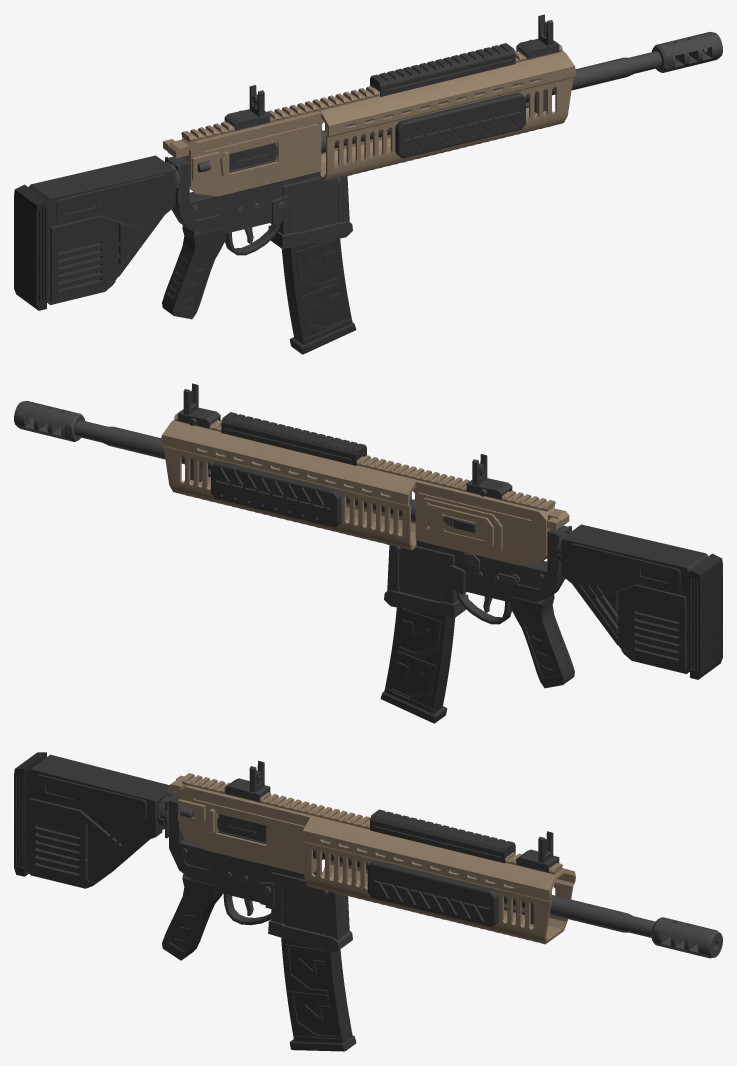
The model's file is MK35_ISR_BO7.gltf.
3 renders of one model, top to bottom at view 1: azimuth 30°, elevation 25°; view 2: azimuth 150°, elevation 25°; view 3: azimuth 330°, elevation 25°, orthographic.
Parts seen in each view (by area): view 1: stock, handguard, receiver_lower, receiver_upper, magazine, handguard_side_panels, butt_pad, grip, handguard_top_panel, barrel, rail_top, muzzle_brake (+5 smaller); view 2: stock, handguard, receiver_lower, receiver_upper, magazine, handguard_side_panels, butt_pad, grip, handguard_top_panel, barrel, rail_top, muzzle_brake (+4 smaller); view 3: stock, handguard, receiver_lower, receiver_upper, magazine, handguard_side_panels, handguard_top_panel, grip, barrel, rail_top, muzzle_brake, butt_pad (+5 smaller).
Boxes of the visible parts, <box> form: stock: <box>28,155,175,304</box>; handguard: <box>319,50,575,181</box>; receiver_lower: <box>169,156,352,248</box>; receiver_upper: <box>181,111,321,196</box>; magazine: <box>282,238,352,344</box>; handguard_side_panels: <box>395,92,525,158</box>; butt_pad: <box>14,184,46,310</box>; grip: <box>162,225,226,319</box>; handguard_top_panel: <box>370,43,515,96</box>; barrel: <box>321,51,661,153</box>; rail_top: <box>181,41,562,142</box>; muzzle_brake: <box>651,32,722,72</box>; stock: <box>561,524,708,673</box>; handguard: <box>161,419,417,550</box>; receiver_lower: <box>384,525,567,617</box>; receiver_upper: <box>415,480,555,565</box>; magazine: <box>384,607,454,713</box>; handguard_side_panels: <box>211,461,341,527</box>; butt_pad: <box>690,553,722,679</box>; grip: <box>510,594,574,688</box>; handguard_top_panel: <box>221,412,366,465</box>; barrel: <box>75,420,415,522</box>; rail_top: <box>174,410,555,511</box>; muzzle_brake: <box>14,401,85,441</box>; stock: <box>26,754,173,888</box>; handguard: <box>303,815,575,944</box>; receiver_lower: <box>169,795,352,953</box>; receiver_upper: <box>178,785,316,873</box>; magazine: <box>281,938,352,1042</box>; handguard_side_panels: <box>367,861,498,926</box>; handguard_top_panel: <box>370,809,515,863</box>; grip: <box>162,874,222,960</box>; barrel: <box>313,839,655,937</box>; rail_top: <box>181,773,562,874</box>; muzzle_brake: <box>651,917,722,958</box>; butt_pad: <box>14,752,46,876</box>.
Size of the model in its own units: 0.905 by 0.3405 by 0.072.
1 material, 1 textured.
